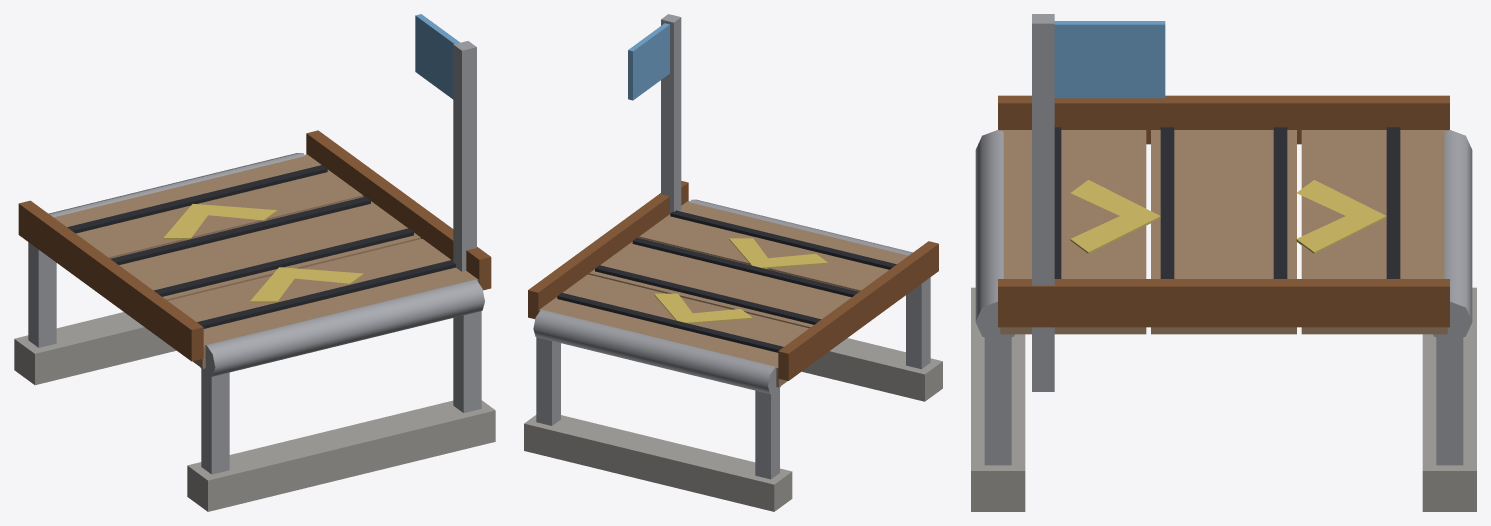
The model's file is build_sorter.glb.
3 renders of one model, left to right at view 1: azimuth 30°, elevation 25°; view 2: azimuth 150°, elevation 25°; view 3: azimuth 270°, elevation 25°, orthographic. The views are drawn at different scales.
Parts seen in each view (by area): view 1: Baked, BorderL, BorderR, _MeshInstance3D_519, _MeshInstance3D_518, _MeshInstance3D_520, _MeshInstance3D_517; view 2: Baked, BorderL, BorderR, _MeshInstance3D_520, _MeshInstance3D_518, _MeshInstance3D_519, _MeshInstance3D_517; view 3: Baked, BorderR, BorderL, _MeshInstance3D_518, _MeshInstance3D_519, _MeshInstance3D_520, _MeshInstance3D_517.
Boxes of the visible parts, x1=… form: Baked: x1=14, y1=14, x2=495, y2=511; BorderL: x1=18, y1=200, x2=203, y2=361; BorderR: x1=306, y1=130, x2=491, y2=290; _MeshInstance3D_519: x1=110, y1=196, x2=370, y2=264; _MeshInstance3D_518: x1=154, y1=228, x2=413, y2=296; _MeshInstance3D_520: x1=67, y1=165, x2=327, y2=233; _MeshInstance3D_517: x1=197, y1=260, x2=455, y2=328; Baked: x1=524, y1=14, x2=942, y2=511; BorderL: x1=778, y1=241, x2=938, y2=380; BorderR: x1=528, y1=181, x2=688, y2=318; _MeshInstance3D_520: x1=557, y1=293, x2=783, y2=352; _MeshInstance3D_518: x1=632, y1=237, x2=858, y2=297; _MeshInstance3D_519: x1=595, y1=265, x2=821, y2=324; _MeshInstance3D_517: x1=670, y1=210, x2=896, y2=269; Baked: x1=971, y1=14, x2=1476, y2=511; BorderR: x1=998, y1=279, x2=1449, y2=327; BorderL: x1=998, y1=95, x2=1449, y2=144; _MeshInstance3D_518: x1=1160, y1=127, x2=1174, y2=278; _MeshInstance3D_519: x1=1273, y1=127, x2=1287, y2=278; _MeshInstance3D_520: x1=1386, y1=127, x2=1400, y2=278; _MeshInstance3D_517: x1=1054, y1=127, x2=1061, y2=278.
Bounding box in the file's own units: 1 × 1.2 × 1.12.
